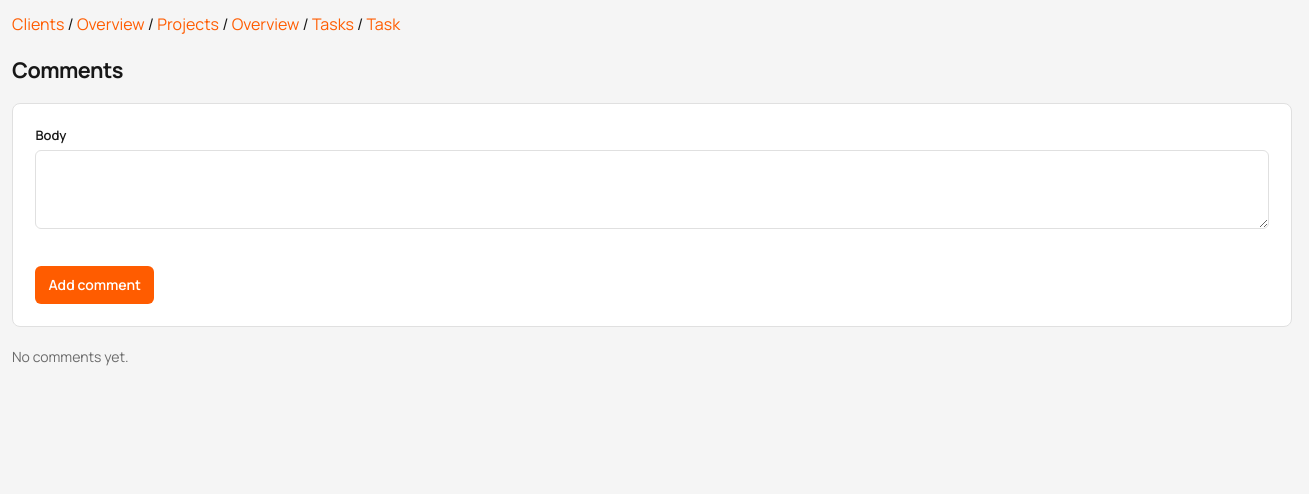
it: CreateCommentForm › creates a comment and refreshes the list
Expected: the text "No comments yet." is shown, x1=12 y1=347 x2=129 y2=366
In the text box labelled "Body": (652,189) x1=35 y1=150 x2=1269 y2=229, type "Check the OAuth redirect"
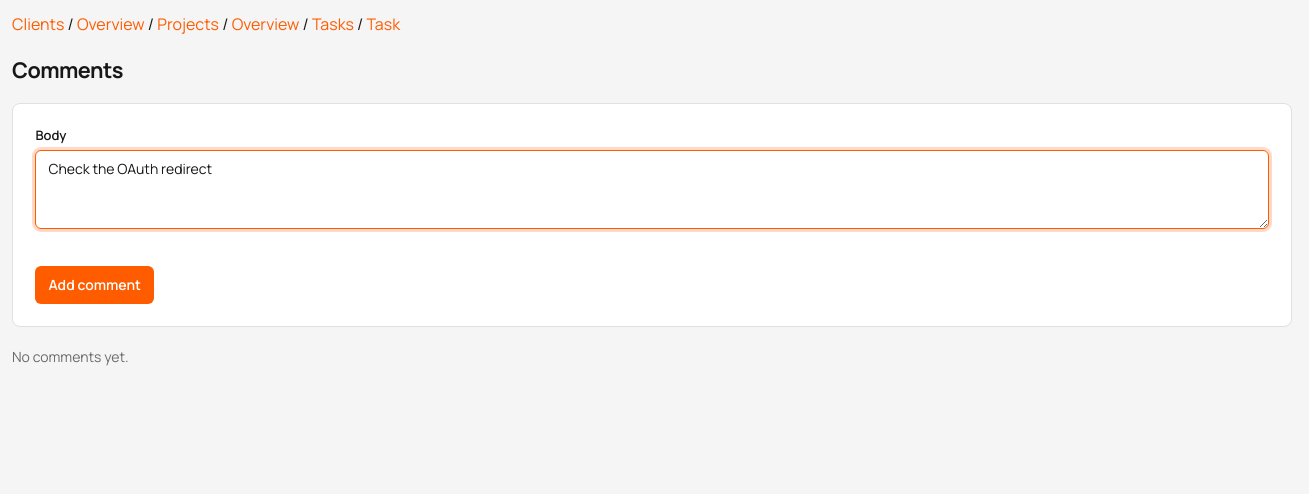
Click the button "Add comment": (95,285) x1=35 y1=266 x2=154 y2=304
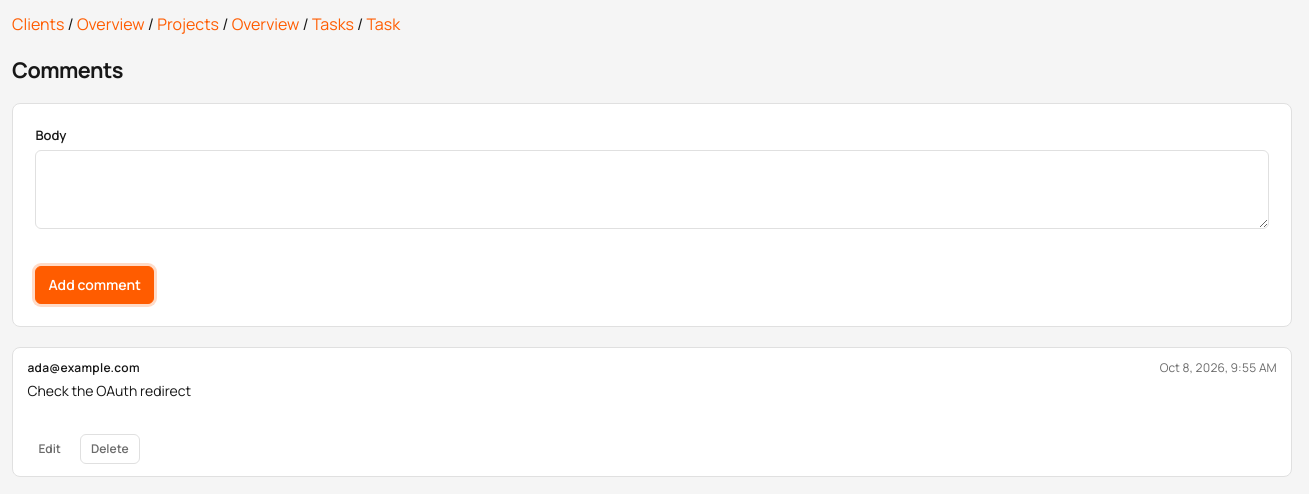
Now the text "ada@example.com" is shown, box x1=27 y1=360 x2=140 y2=376
Now the text "Check the OAuth redirect" is shown, box x1=27 y1=381 x2=191 y2=400
Now the text box labelled "Body" is empty, box x1=35 y1=150 x2=1269 y2=229
